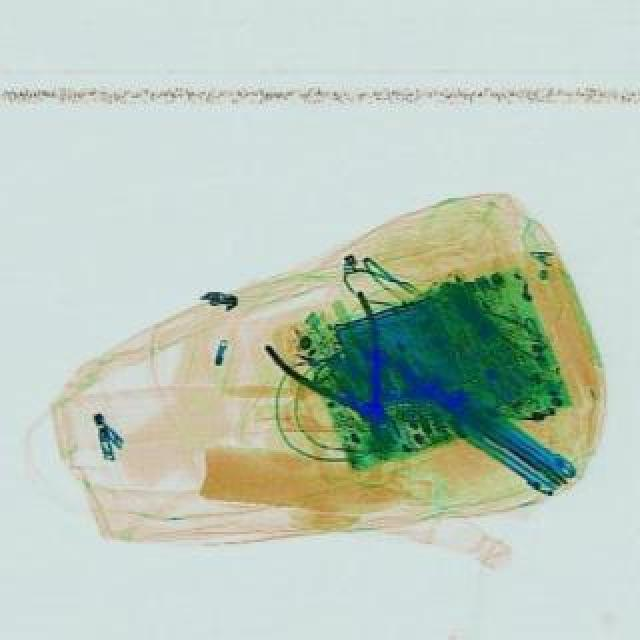wrench: (258, 290, 438, 470)
